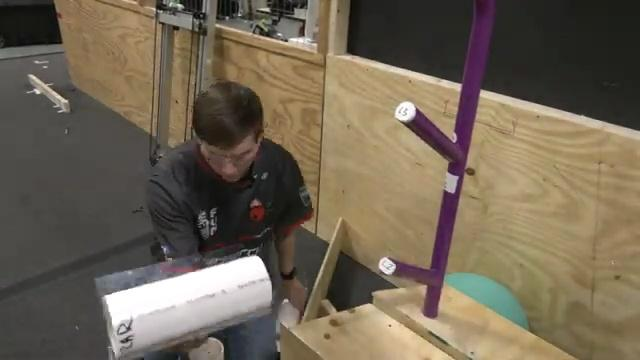CORAL: (102, 256, 272, 360)
